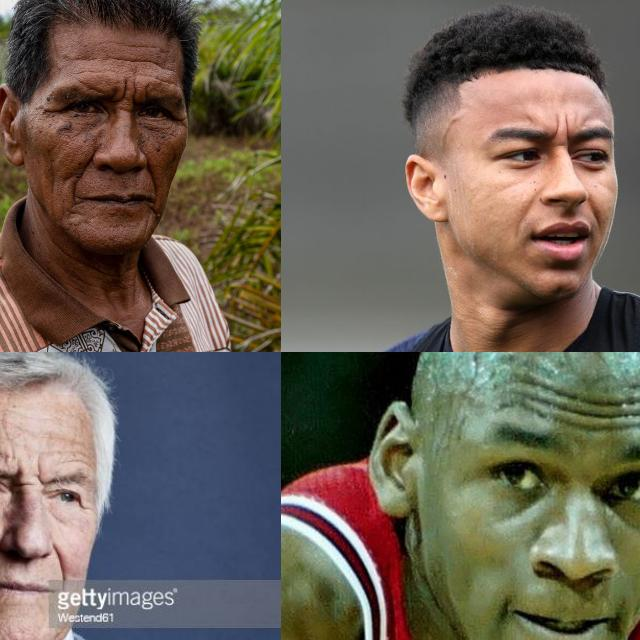chin: (142, 218, 150, 238), (63, 206, 79, 216)
crows_feet: (39, 100, 59, 122), (76, 496, 95, 518), (172, 112, 188, 126)
forehead: (514, 376, 640, 435), (110, 49, 158, 67), (112, 40, 158, 54), (68, 63, 100, 79), (150, 72, 182, 88), (64, 450, 92, 468)
frown_line: (546, 112, 570, 144), (118, 77, 136, 103), (14, 462, 32, 488), (34, 462, 48, 482)
gummy_smile: (516, 188, 540, 222), (73, 153, 94, 187), (50, 544, 68, 578), (146, 165, 162, 189), (588, 201, 602, 227)
